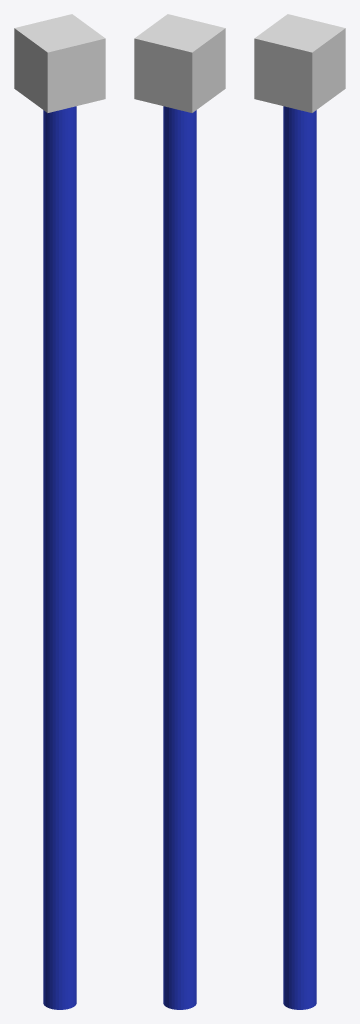
The model's file is UWBNode.dae.
3 renders of one model, left to right at view 1: azimuth 30°, elevation 25°; view 2: azimuth 150°, elevation 25°; view 3: azimuth 330°, elevation 25°, orthographic.
Parts seen in each view (by area): view 1: Cylinder, Cube; view 2: Cylinder, Cube; view 3: Cylinder, Cube.
Part boxes in pixels (x1,y1,x2,y2): Cylinder: [43, 106, 76, 1009]; Cube: [14, 14, 105, 112]; Cylinder: [163, 106, 196, 1009]; Cube: [134, 14, 225, 112]; Cylinder: [283, 106, 316, 1009]; Cube: [254, 14, 345, 112].
Size of the model in its own units: 0.1 by 0.1 by 1.6.
